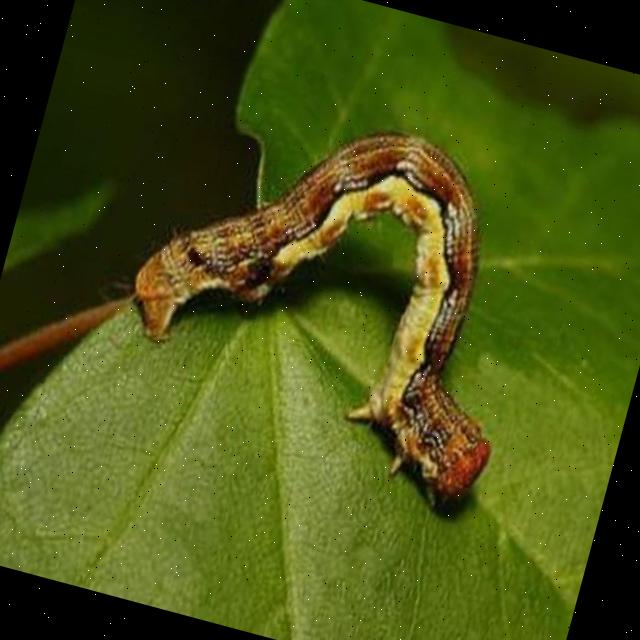worm: (88, 70, 568, 534)
